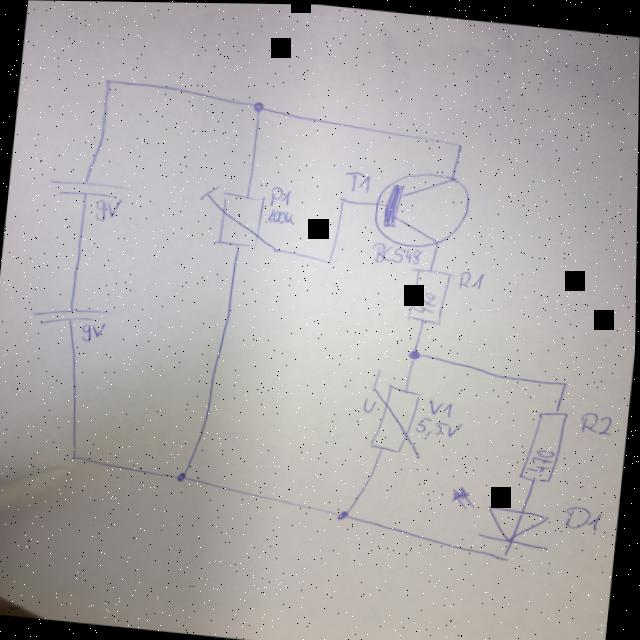diode: (446, 481, 555, 548)
junction: (405, 345, 423, 360), (335, 505, 351, 519), (249, 97, 264, 111), (174, 468, 188, 481), (498, 548, 511, 559), (101, 74, 112, 84), (336, 192, 347, 202), (452, 138, 463, 147), (68, 452, 78, 460), (560, 377, 569, 384), (324, 255, 332, 262)
resistor: (192, 180, 284, 250), (514, 402, 572, 484), (401, 262, 455, 325)
source: (45, 171, 137, 200), (28, 299, 114, 330)
text: (559, 500, 605, 530), (367, 238, 422, 263), (413, 413, 464, 437), (576, 406, 614, 434), (525, 443, 555, 472), (91, 193, 121, 221), (340, 166, 372, 191), (410, 287, 439, 313), (455, 265, 485, 288), (425, 393, 455, 416), (262, 205, 296, 224), (266, 182, 292, 206), (79, 318, 105, 342), (359, 392, 377, 411)
transistor: (368, 163, 471, 251)
